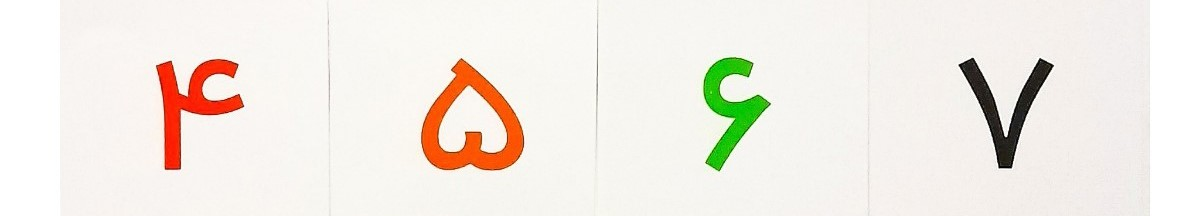character: (930, 28, 1088, 198), (389, 28, 539, 199), (666, 34, 803, 192), (138, 25, 259, 197)
